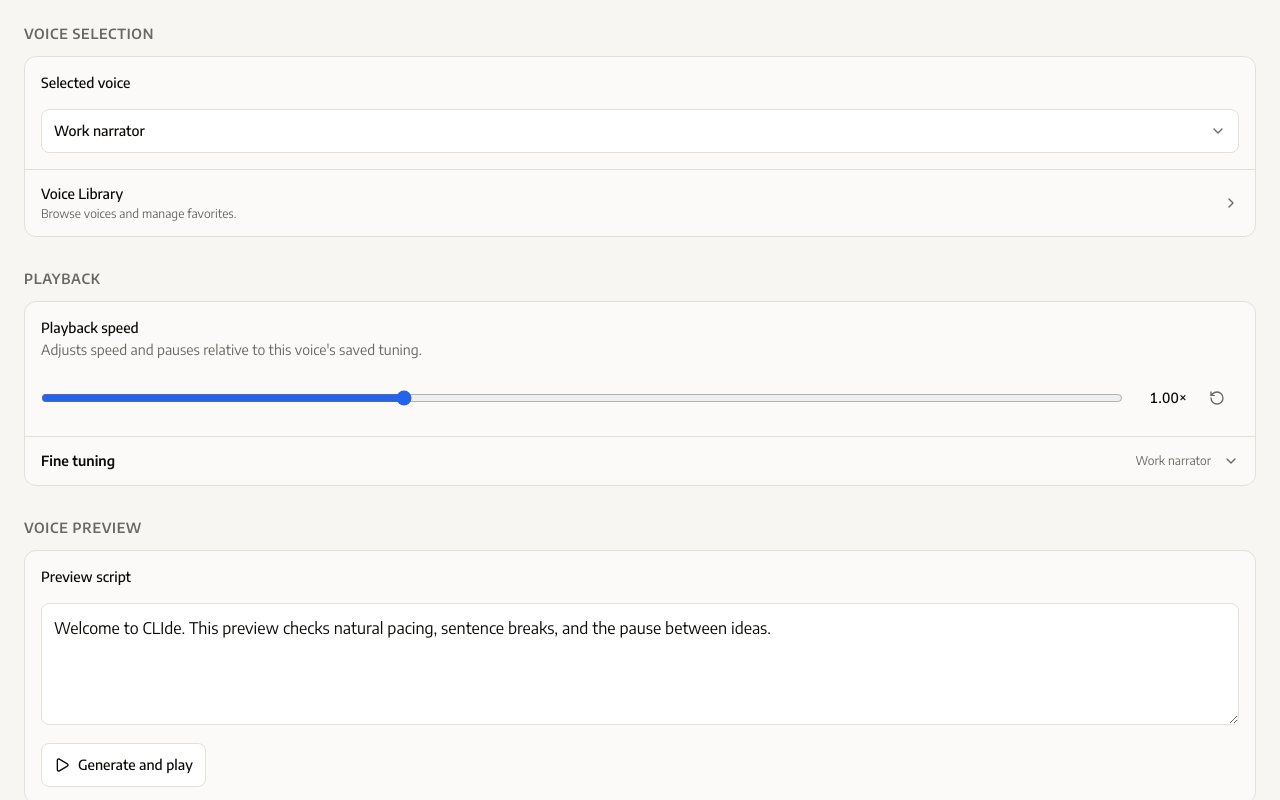
ChatVoiceBackendScreen › shows a selected non-favorite without exposing installed inventory metadata
Click the dropdown labelled "Work narrator": {"x": 99, "y": 130} [41, 109, 1239, 153]
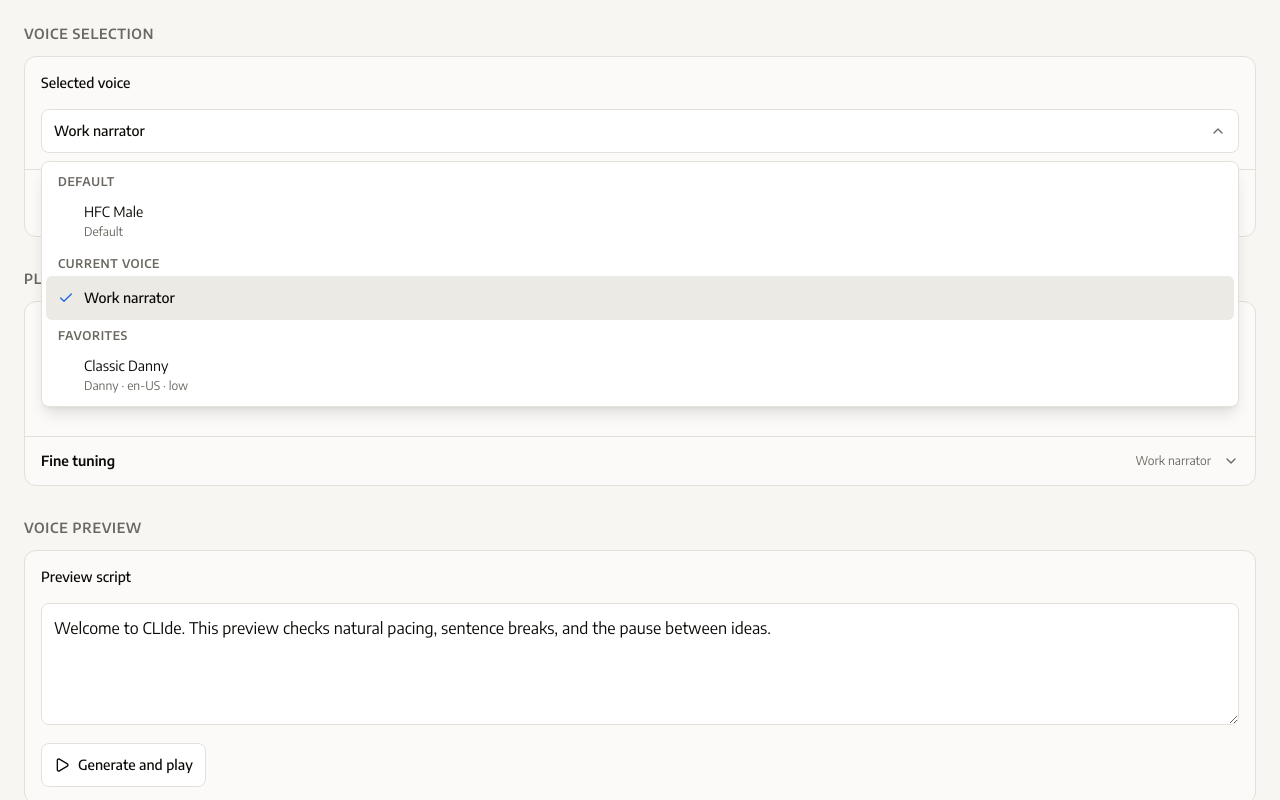
Expected: the list is shown, [42, 162, 1238, 406]
